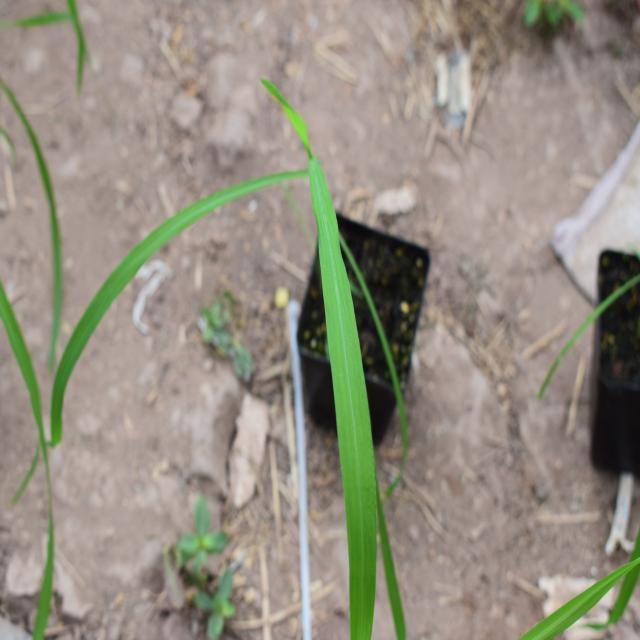barnyard_grass: (65, 98, 417, 608)
